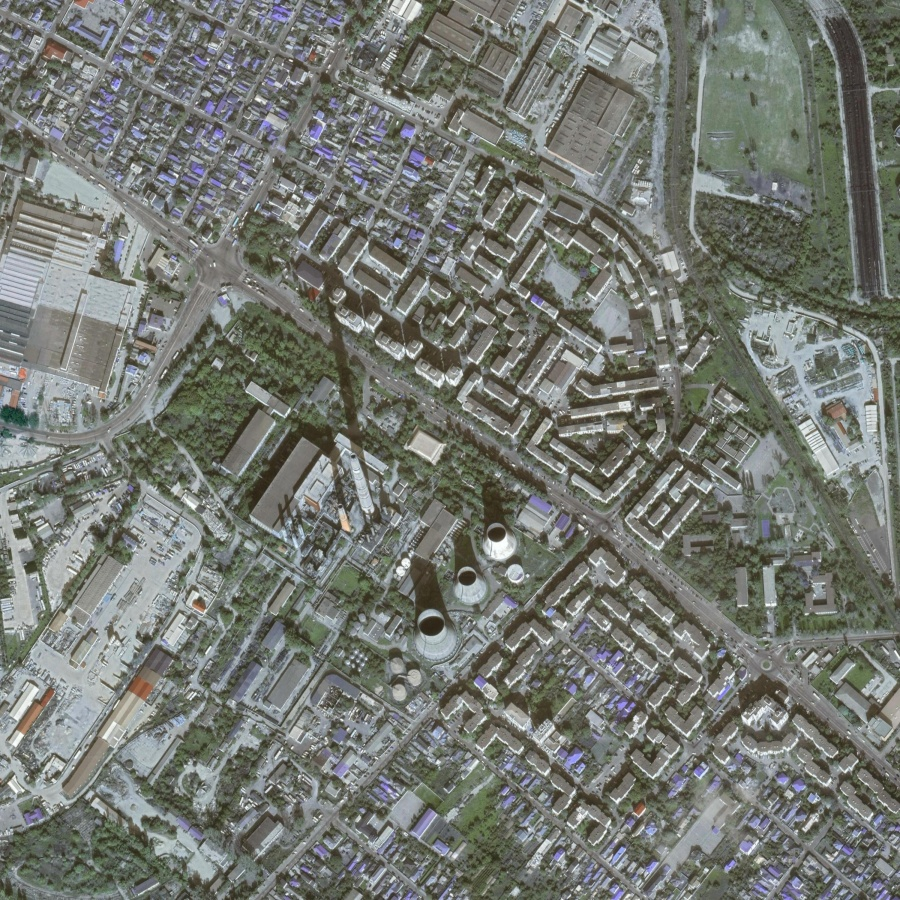PowerPlant: (257, 344, 543, 688)
